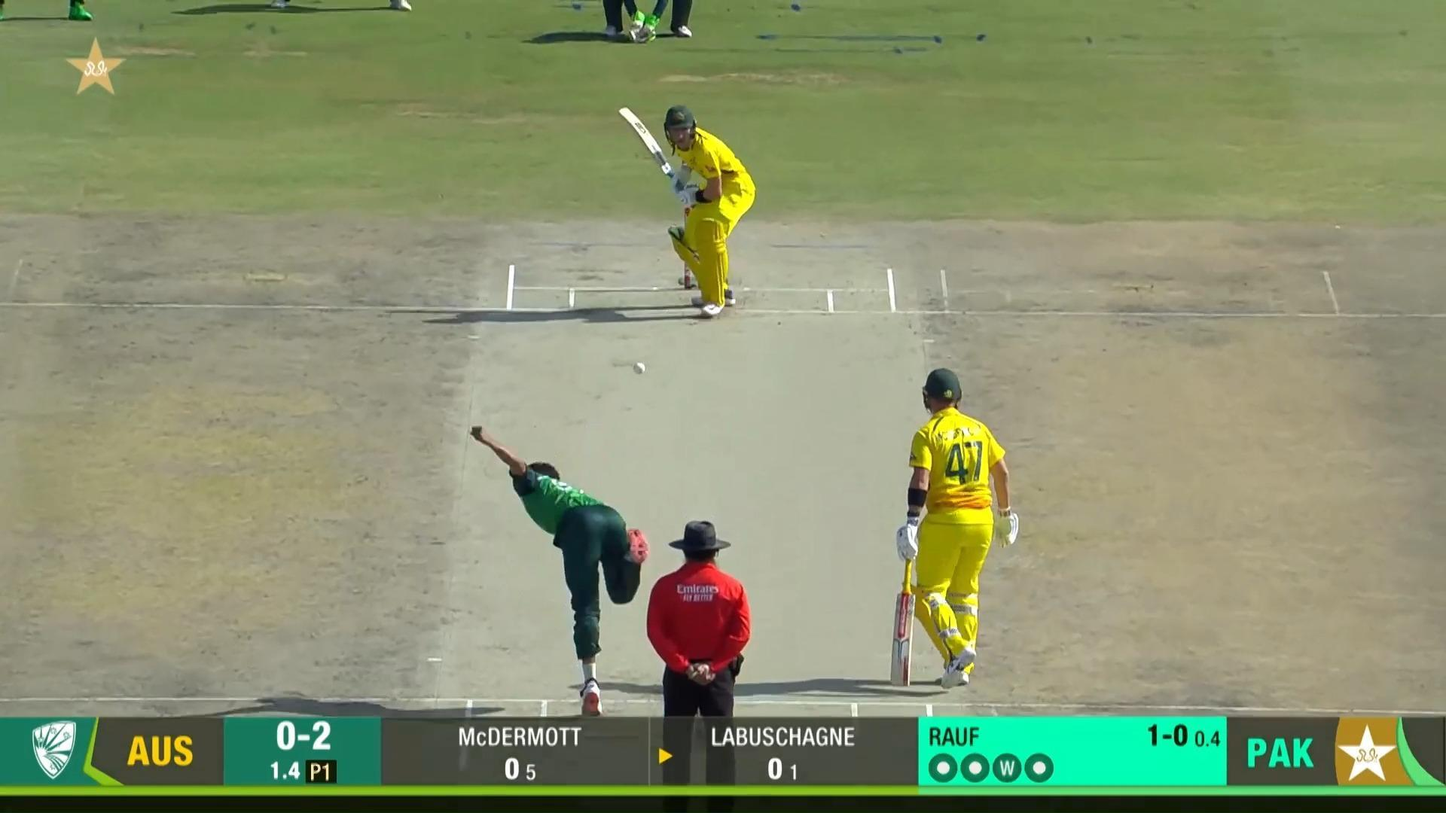BM 1: (618, 105, 757, 317)
BO: (469, 422, 651, 716)
